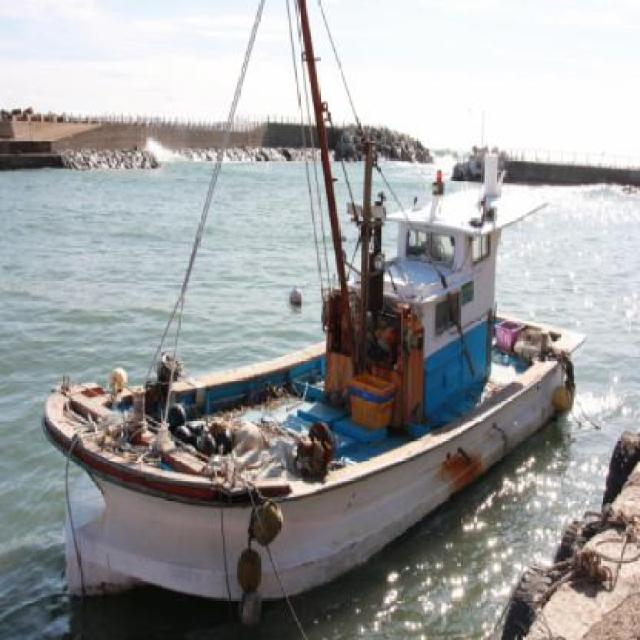fish-b: (37, 93, 593, 619)
